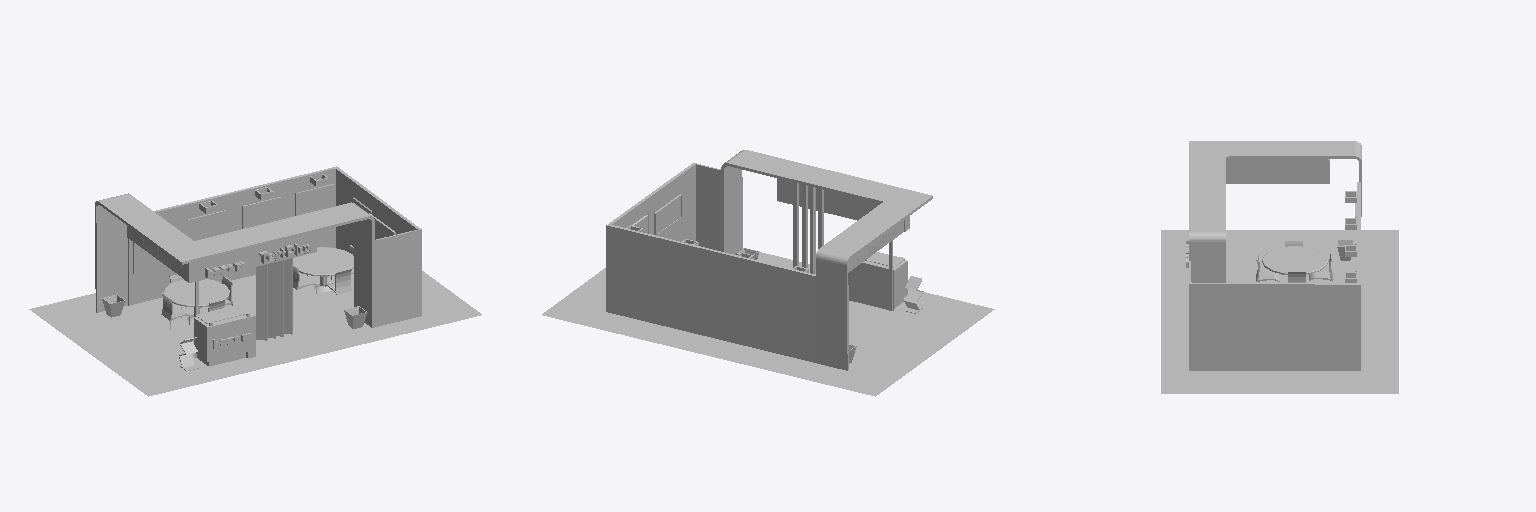
Rendered from booth004.obj.
3 views of the same model, side by side, from view 1: azimuth 30°, elevation 25°; view 2: azimuth 150°, elevation 25°; view 3: azimuth 270°, elevation 25° (orthographic).
Visible parts, largest first — view 1: Plane001, Wall001, Line003, Box001, Rectangle002, Cylinder018, Cylinder019, Box006, Box007, Line004, Box005, Line007 (+4 smaller); view 2: Wall001, Plane001, Line003, Box001, Rectangle002, Box003; view 3: Plane001, Wall001, Line003, Rectangle002, Cylinder019.
Part boxes in pixels (x1,y1,x2,y2): Plane001: (29,271,481,396); Wall001: (128,166,421,326); Line003: (95,193,374,327); Box001: (194,313,255,368); Rectangle002: (127,226,316,282); Cylinder018: (293,247,353,291); Cylinder019: (164,279,229,322); Box006: (242,197,280,228); Box007: (295,184,333,215); Line004: (256,264,267,340); Box005: (188,210,225,240); Line007: (284,258,292,334); Wall001: (606,163,815,362); Plane001: (542,252,994,396); Line003: (721,150,932,370); Box001: (848,260,907,310); Rectangle002: (777,178,909,272); Box003: (654,194,681,235); Plane001: (1161,230,1398,393); Wall001: (1189,182,1360,370); Line003: (1189,141,1361,282); Rectangle002: (1226,159,1329,183); Cylinder019: (1262,246,1328,274).
Size of the model in its own units: 521 by 168 by 322.